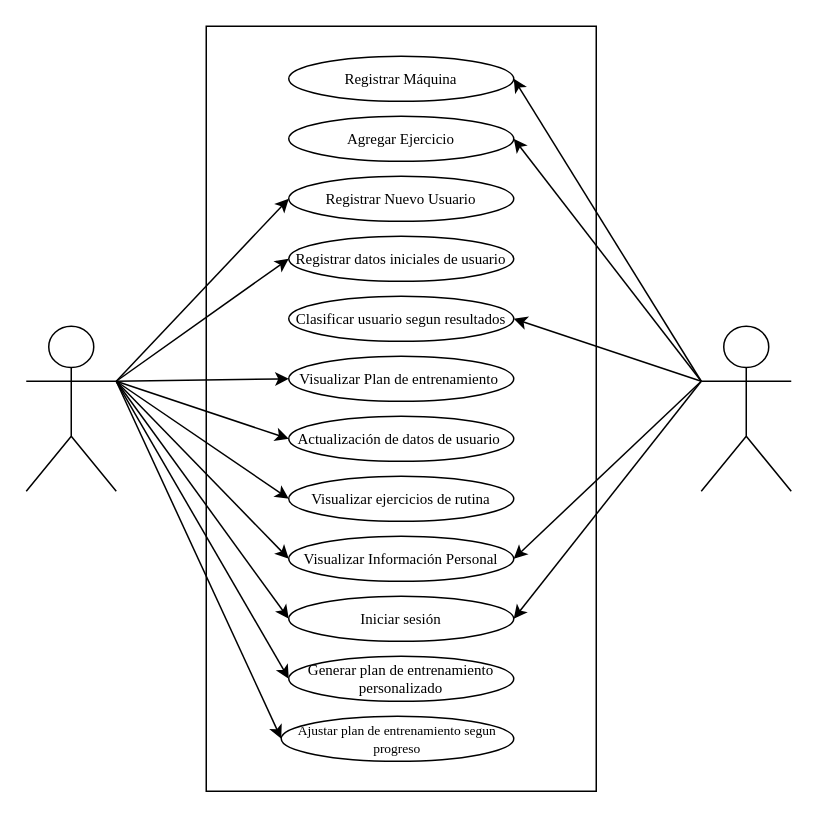
Image size: 818x818. Some labels were removed from this diagram. The shapes that lost their labels are listed below. From the top down, each one's centre as x and y in pixels, then its label:
point 70,408: Usuario
point 745,408: Administrador
